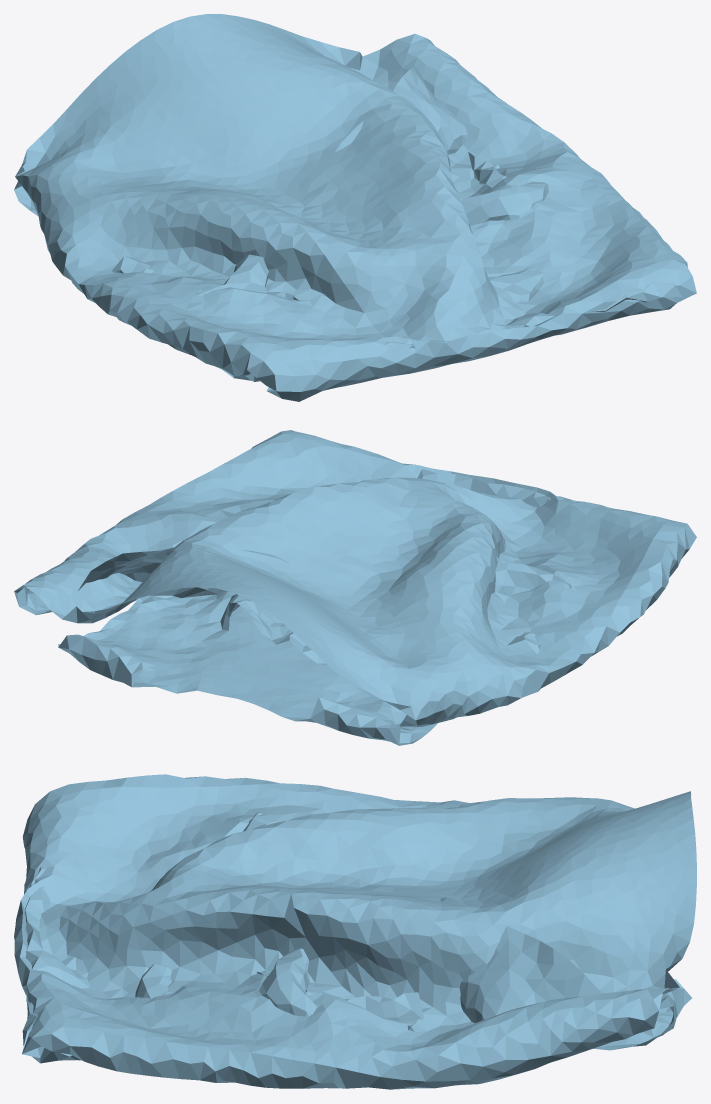
The model's file is frame_20.glb.
3 renders of one model, top to bottom at view 1: azimuth 30°, elevation 25°; view 2: azimuth 150°, elevation 25°; view 3: azimuth 270°, elevation 25°, orthographic. The views are drawn at different scales.
Visible parts, largest first — view 1: frame_20.obj; view 2: frame_20.obj; view 3: frame_20.obj.
Part boxes in pixels (x1,y1,x2,y2): frame_20.obj: (14, 14, 696, 401); frame_20.obj: (14, 430, 696, 745); frame_20.obj: (14, 774, 696, 1089).
Size of the model in its own units: 0.9198 by 0.2359 by 0.9357.
